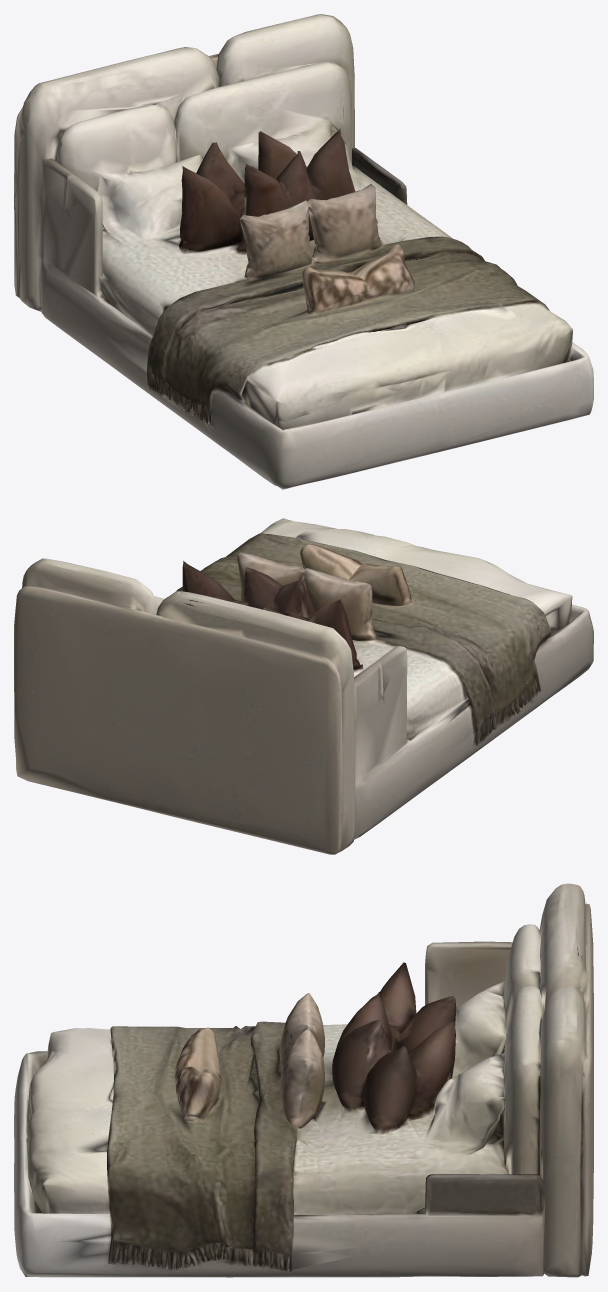
The model's file is bed_cream.glb.
3 views of the same model, one above another, from view 1: azimuth 30°, elevation 25°; view 2: azimuth 150°, elevation 25°; view 3: azimuth 270°, elevation 25° (orthographic). The views are drawn at different scales.
Parts seen in each view (by area): view 1: prop; view 2: prop; view 3: prop.
Boxes of the visible parts, x1,y1,x2,y2 form: prop: (14,14,593,489); prop: (14,518,593,854); prop: (14,883,593,1277).
Size of the model in its own units: 1.6 by 1 by 2.21.
1 material, 1 textured.
